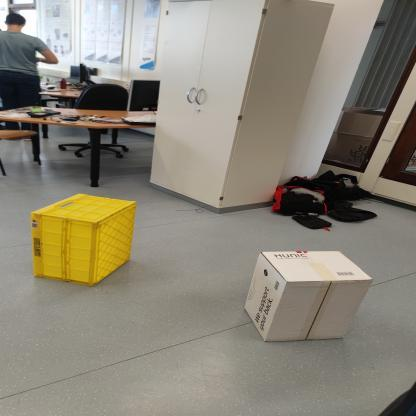-: (229, 228, 374, 360), (17, 185, 139, 293)
